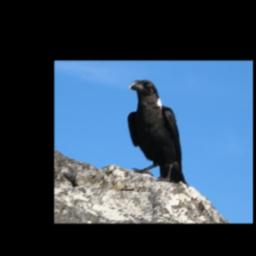Crow: (126, 77, 189, 188)
